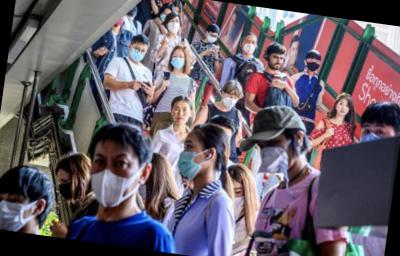with_mask: (84, 146, 144, 212), (251, 132, 298, 178), (176, 135, 213, 180), (53, 171, 85, 203), (128, 43, 149, 64), (222, 91, 239, 110), (241, 37, 258, 55), (171, 51, 187, 70), (166, 17, 183, 33), (305, 57, 321, 73), (206, 31, 219, 44)
without_mask: (170, 104, 192, 125), (268, 53, 285, 71), (335, 100, 352, 116)
